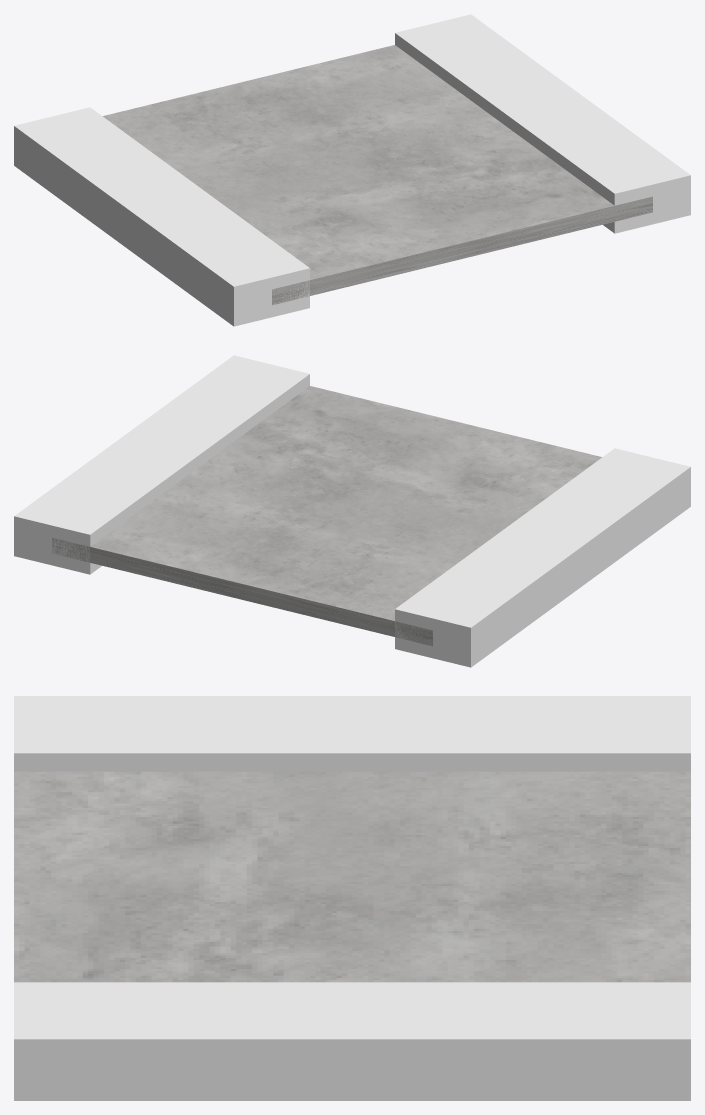
Rendered from GroundTile.fbx.
3 views of the same model, one above another, from view 1: azimuth 30°, elevation 25°; view 2: azimuth 150°, elevation 25°; view 3: azimuth 270°, elevation 25° (orthographic). The views are drawn at different scales.
Visible parts, largest first — view 1: Cube, sidewalk_1, sidewalk; view 2: Cube, sidewalk_1, sidewalk; view 3: Cube, sidewalk, sidewalk_1.
Part boxes in pixels (<box>): Cube: <box>102,45,652,305</box>; sidewalk_1: <box>14,107,309,326</box>; sidewalk: <box>395,14,690,233</box>; Cube: <box>52,386,602,646</box>; sidewalk_1: <box>395,448,690,667</box>; sidewalk: <box>14,355,309,574</box>; Cube: <box>14,771,690,982</box>; sidewalk: <box>14,982,690,1100</box>; sidewalk_1: <box>14,696,690,771</box>.
Bounding box in the file's own units: 600 × 50 × 500.
2 materials, 1 textured.
